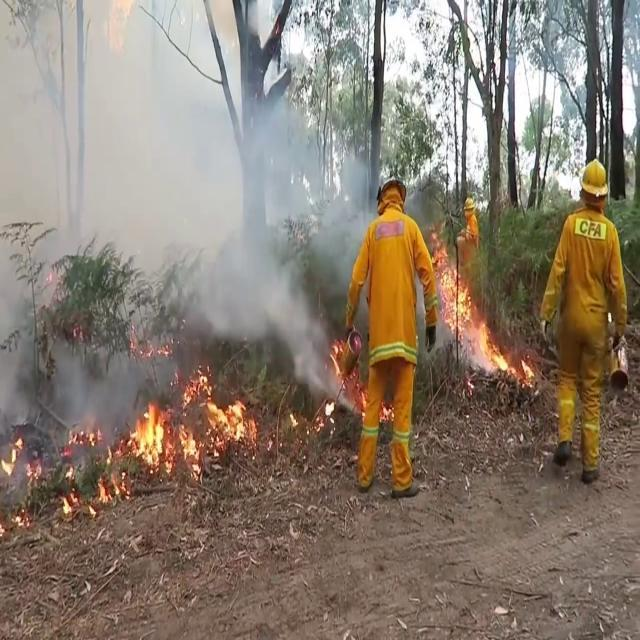Fire: (187, 362, 254, 478), (438, 250, 497, 375), (122, 395, 198, 473), (0, 429, 39, 522)
Smoke: (0, 8, 366, 391)
